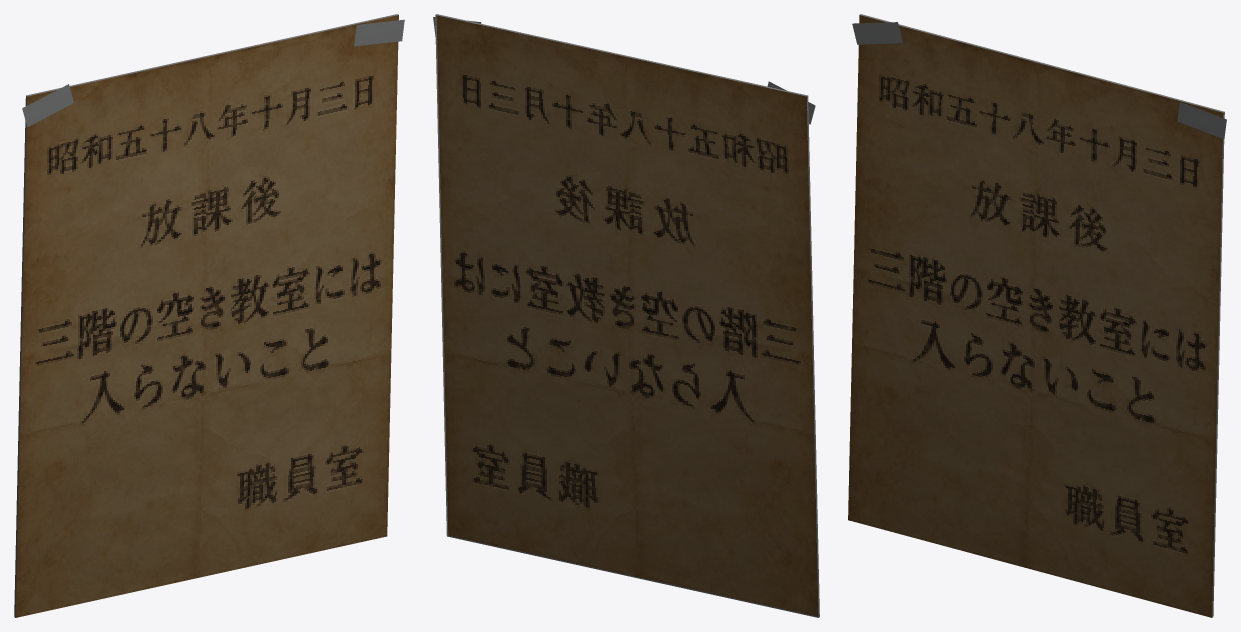
The model's file is prop_poster-renraku-5.glb.
3 views of the same model, side by side, from view 1: azimuth 30°, elevation 25°; view 2: azimuth 150°, elevation 25°; view 3: azimuth 330°, elevation 25° (orthographic). The views are drawn at different scales.
Parts seen in each view (by area): view 1: prop_poster-renraku-5; view 2: prop_poster-renraku-5; view 3: prop_poster-renraku-5.
Part boxes in pixels (box(x1,y1,x2,y2)): prop_poster-renraku-5: box(14, 14, 404, 617); prop_poster-renraku-5: box(433, 14, 819, 617); prop_poster-renraku-5: box(848, 14, 1226, 617).
Size of the model in its own units: 0.4809 by 0.6292 by 0.0055.
Materials: 2 (2 with a texture image).
